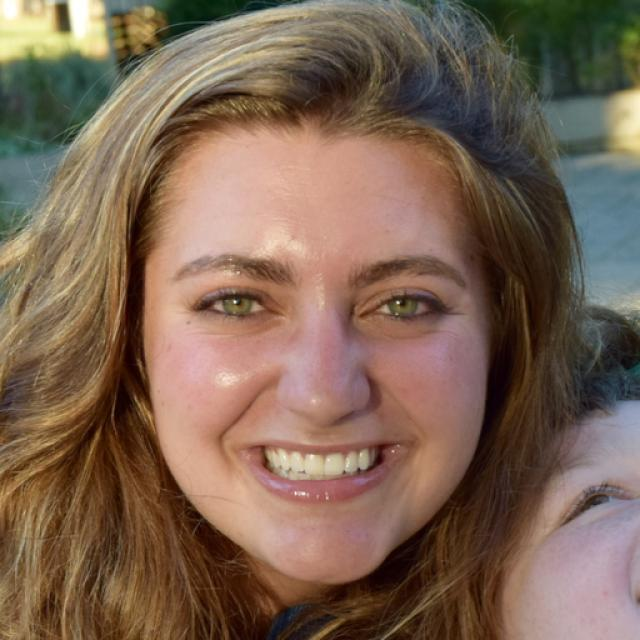happy: (139, 107, 489, 585), (492, 400, 640, 640)
